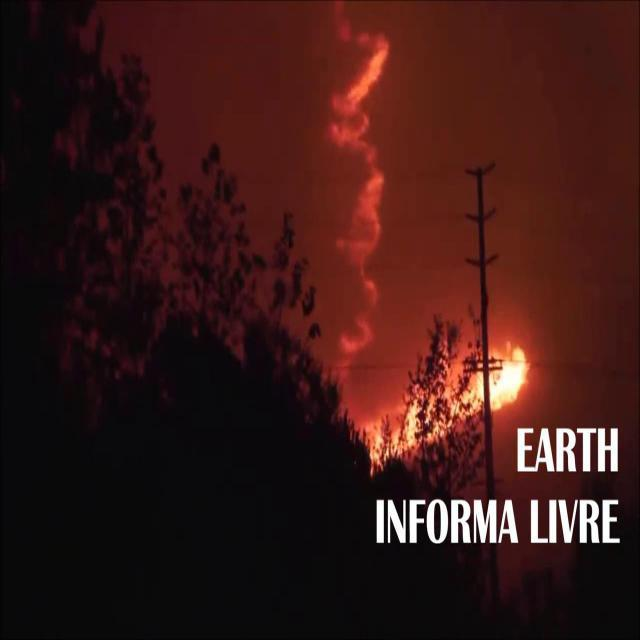Fire: (358, 333, 526, 473)
